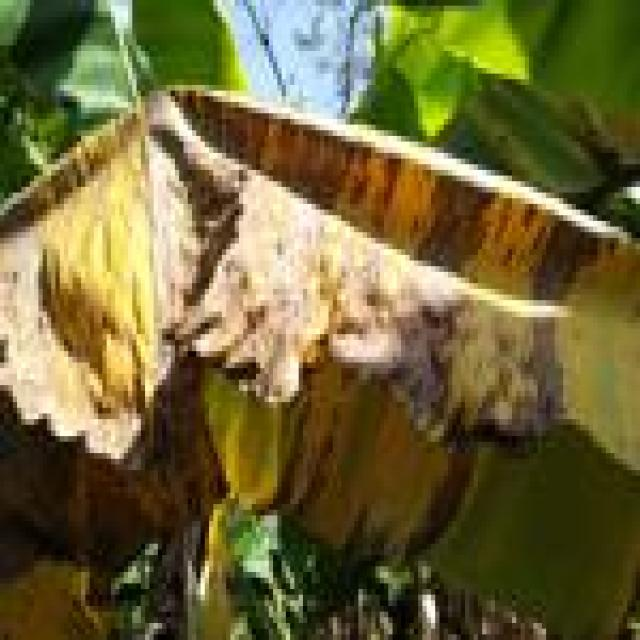Early_rust: (0, 68, 640, 590)
